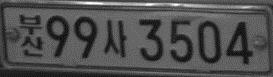0: (197, 19, 222, 63)
3: (138, 18, 163, 61)
4: (225, 21, 253, 65)
5: (170, 19, 193, 62)
9: (73, 15, 97, 57), (46, 14, 68, 56)
부산_V: (18, 13, 44, 56)
사: (103, 19, 127, 58)
